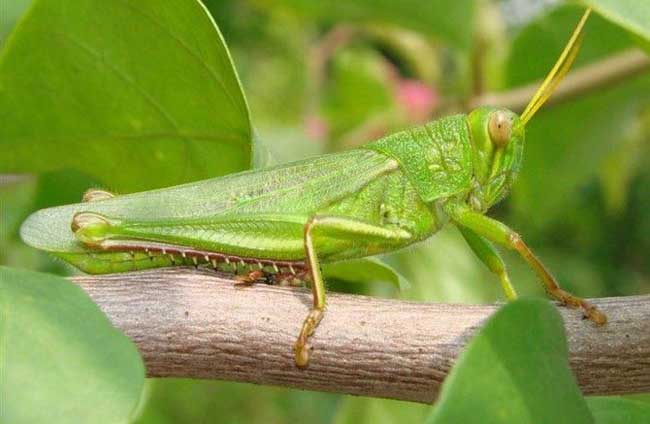huangchong: (21, 101, 555, 302)
